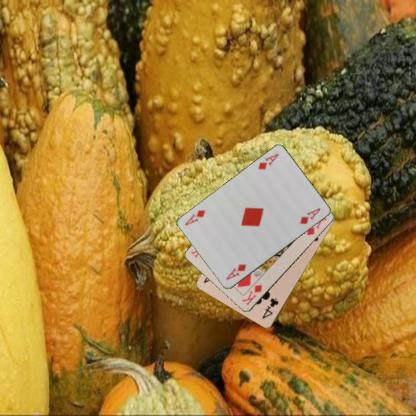4c: (260, 296, 280, 320)
Ad: (255, 151, 280, 171), (224, 262, 247, 281)
Kd: (240, 282, 263, 307)
